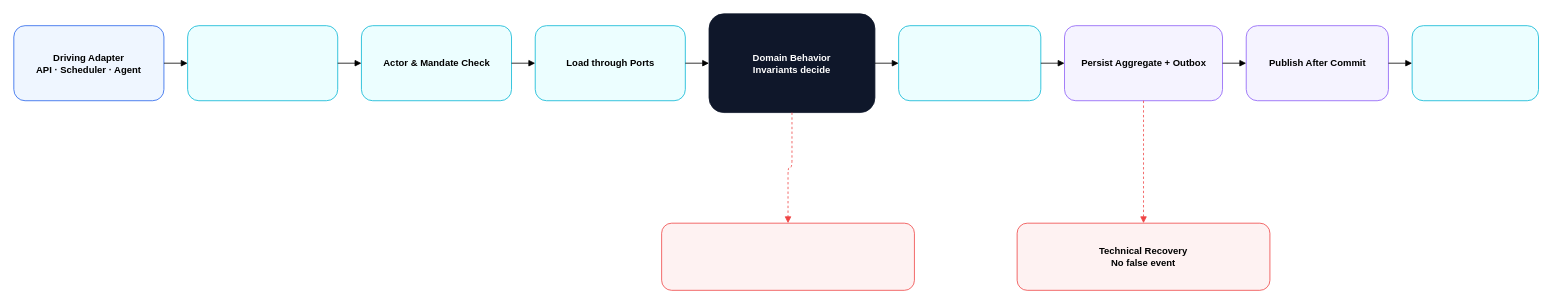
Some shapes in this 1552 by 304 pixel diagram are drawn without their labels. The shapes that lost their labels are listed below. From the top down, each one's centre as x and y in pixels, then its label:
At [262,63]: "Application Use Case".
At [969,63]: "Unit of Work".
At [1475,63]: "Next Use Case".
At [787,256]: "Business Rejection No state change".
